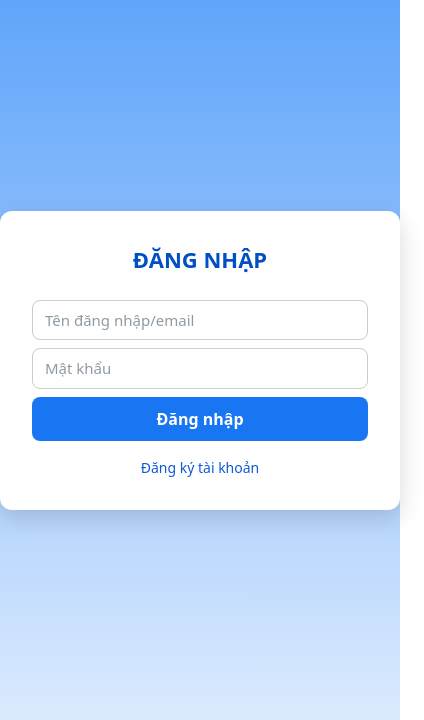
Scenario: Login Integration Test › TC03 - Không gọi API khi form không hợp lệ (username sai định dạng)
Type "admin@123" into the field with test id "username-input". click: (200,320)
box: [32,300,368,340]
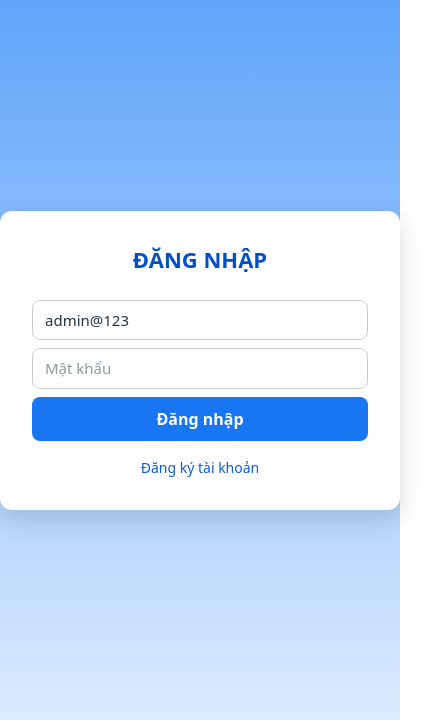
Type "abc123" into the password field with test id "password-input". click: (200,368)
box: [32,348,368,388]
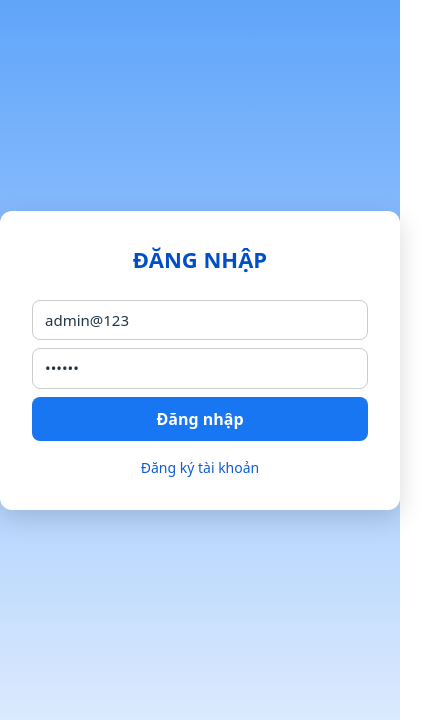
Click the button "Đăng nhập". click: (200,418)
box: [32,396,368,440]
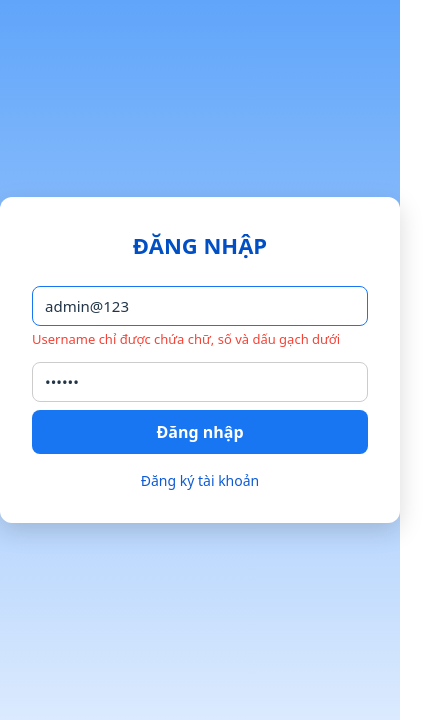
Check: the text "Username chỉ được chứa chữ, số và dấu gạch dưới" is shown, box [32,330,368,350]
